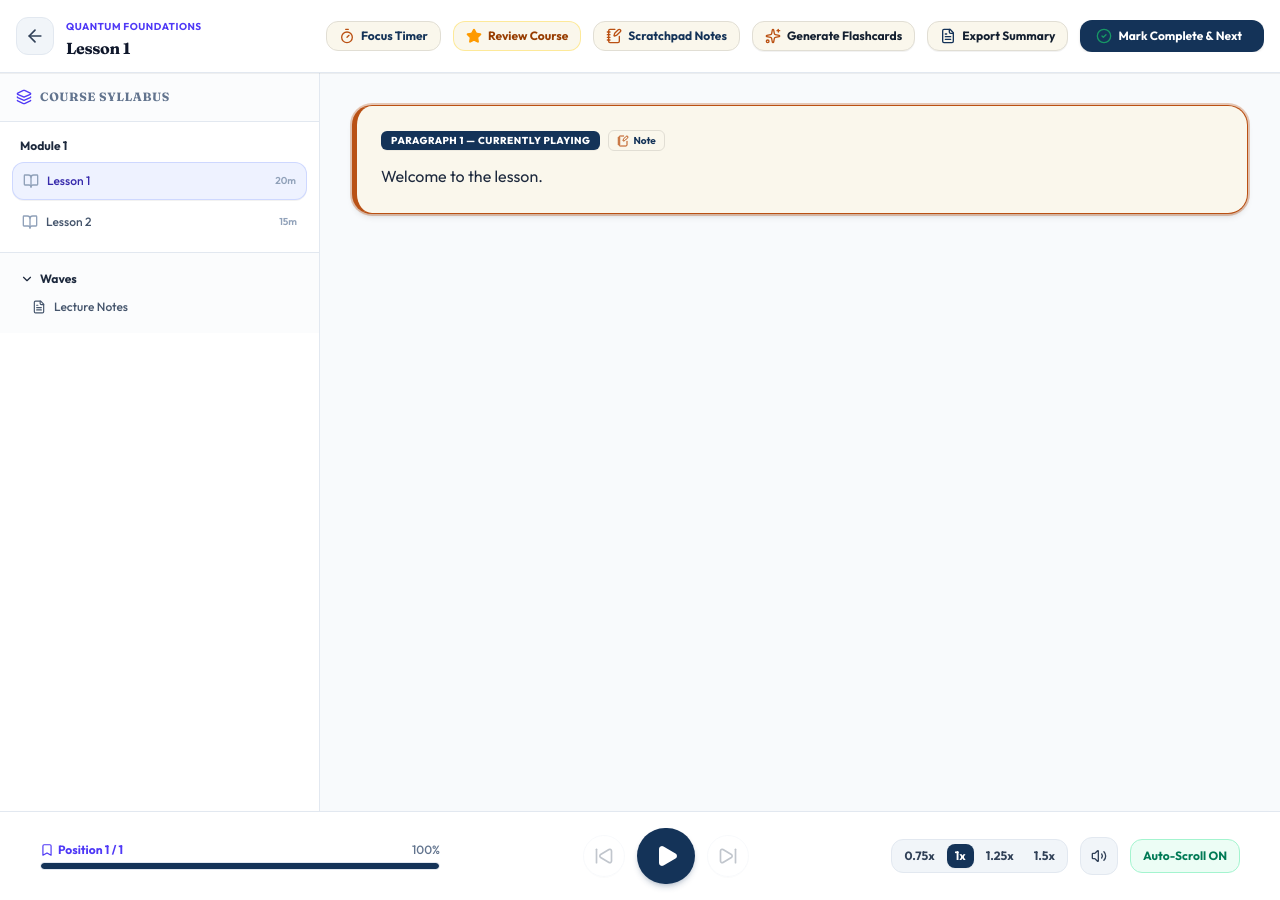
Scenario: CoursePlayer › shows a friendly state, not a blank pane, when the selected Page fails to load
Click the button "Lecture Notes" at (91, 306), box [12,293,307,321]
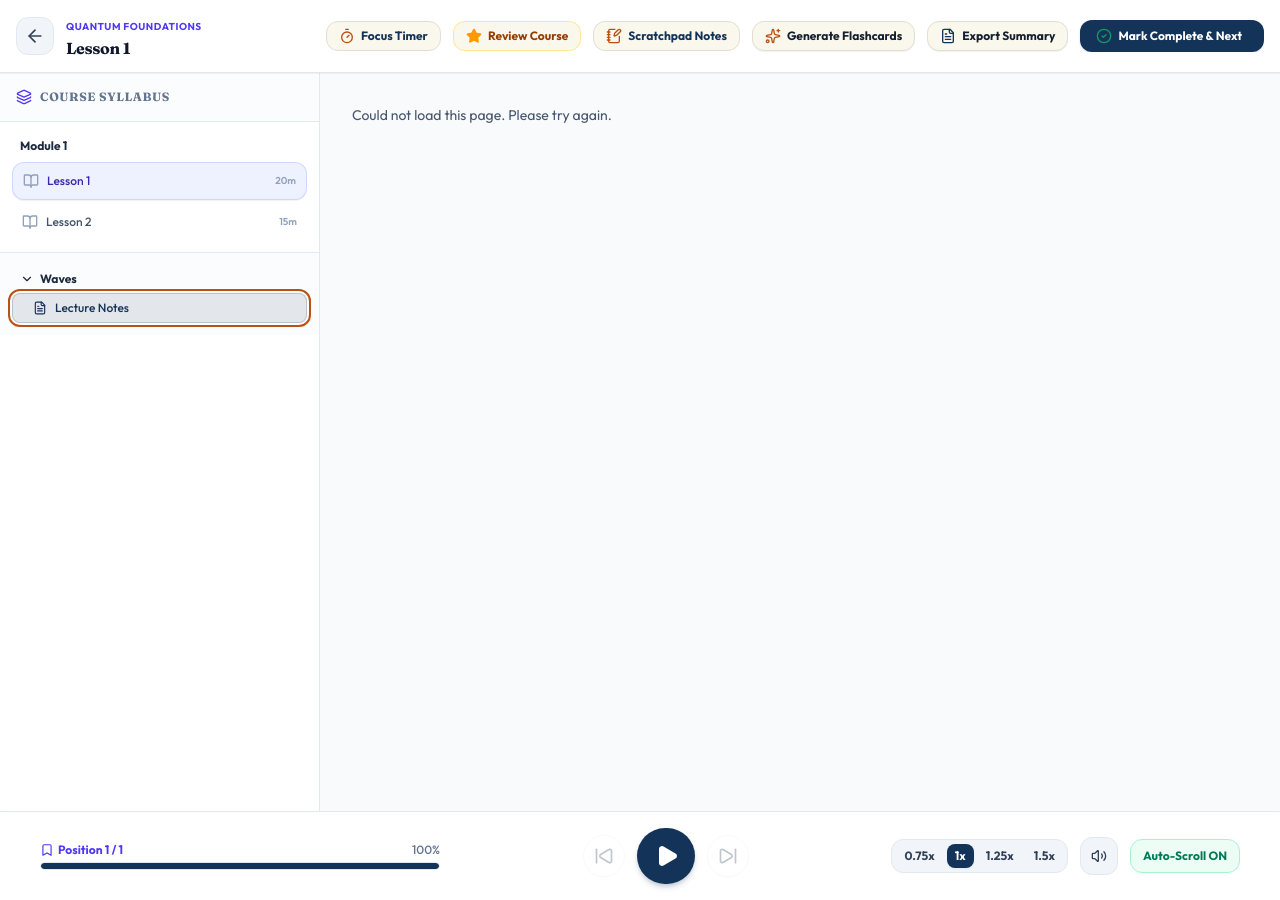
Expected: the text "Could not load this page. Please try again." is shown, [352,106,612,124]
